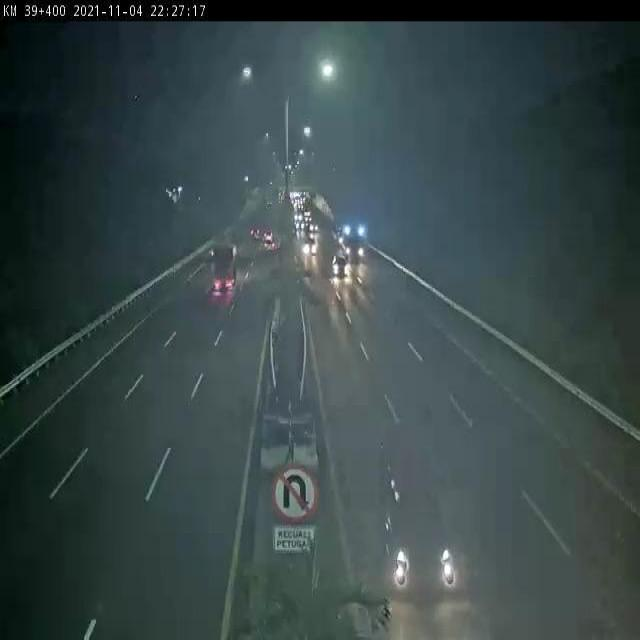car: (377, 423, 457, 593), (261, 236, 277, 255)
truck-m-: (209, 239, 239, 293)
